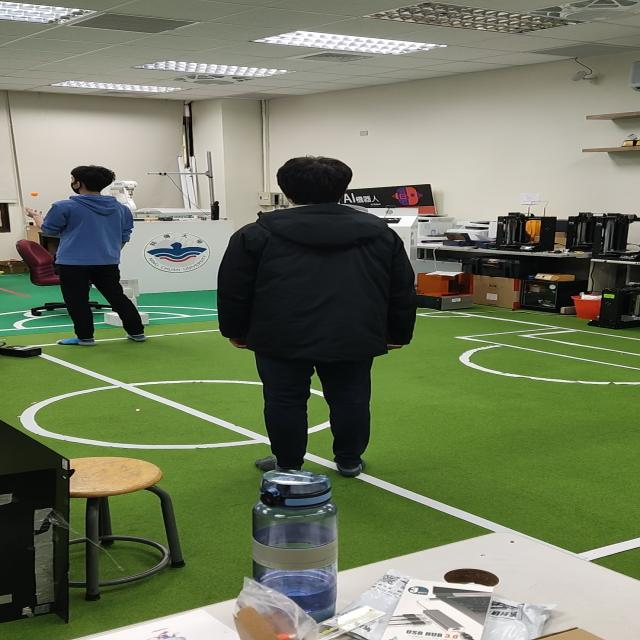person: (207, 144, 427, 463), (26, 158, 154, 343)
